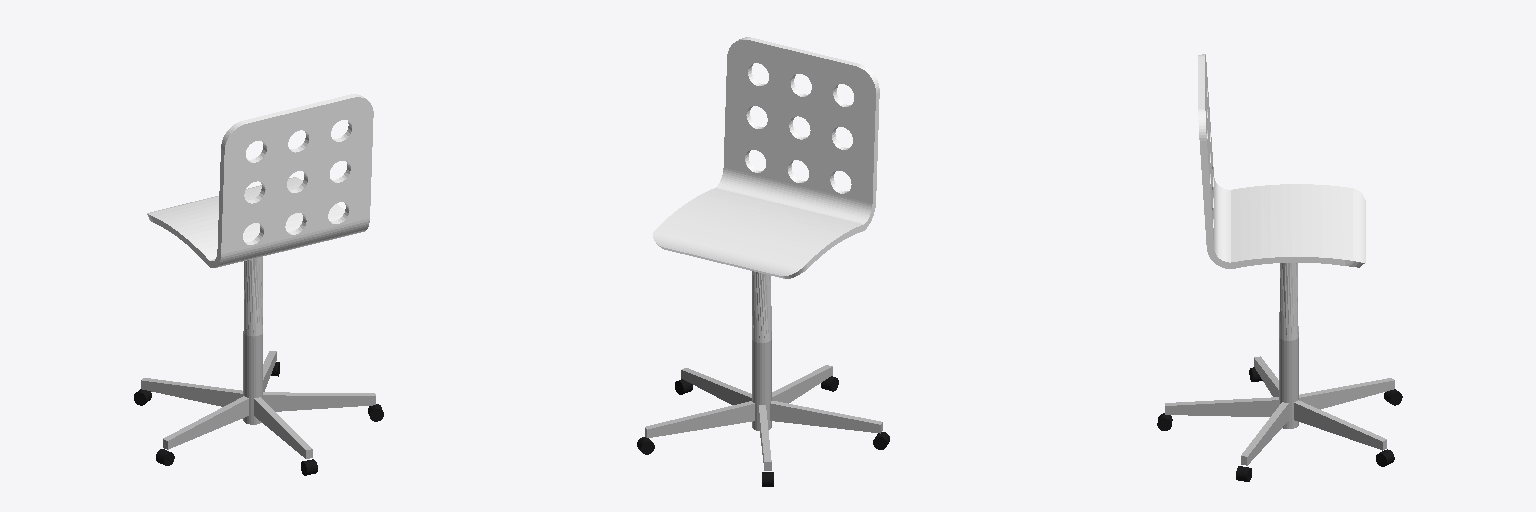
The picture shows the model from 3 angles: view 1: azimuth 30°, elevation 25°; view 2: azimuth 150°, elevation 25°; view 3: azimuth 270°, elevation 25°; orthographic projection.
Visible parts, largest first — view 1: Mesh1 Group2 Group1 Model, Mesh12 Group3 ske3F1 Group1 Model, Mesh5 Group5 Group3 ske3F1 Group1 Model, Mesh3 Group4 Group3 ske3F1 Group1 Model, Mesh7 Group6 Group3 ske3F1 Group1 Model, Mesh9 Group7 Group3 ske3F1 Group1 Model; view 2: Mesh1 Group2 Group1 Model, Mesh12 Group3 ske3F1 Group1 Model, Mesh7 Group6 Group3 ske3F1 Group1 Model, Mesh11 Group8 Group3 ske3F1 Group1 Model, Mesh5 Group5 Group3 ske3F1 Group1 Model, Mesh9 Group7 Group3 ske3F1 Group1 Model, Mesh3 Group4 Group3 ske3F1 Group1 Model; view 3: Mesh1 Group2 Group1 Model, Mesh12 Group3 ske3F1 Group1 Model, Mesh9 Group7 Group3 ske3F1 Group1 Model, Mesh11 Group8 Group3 ske3F1 Group1 Model, Mesh3 Group4 Group3 ske3F1 Group1 Model, Mesh5 Group5 Group3 ske3F1 Group1 Model.
Boxes of the visible parts, x1=… form: Mesh1 Group2 Group1 Model: x1=147, y1=94, x2=373, y2=267; Mesh12 Group3 ske3F1 Group1 Model: x1=243, y1=257, x2=262, y2=424; Mesh5 Group5 Group3 ske3F1 Group1 Model: x1=263, y1=392, x2=375, y2=411; Mesh3 Group4 Group3 ske3F1 Group1 Model: x1=141, y1=378, x2=242, y2=406; Mesh7 Group6 Group3 ske3F1 Group1 Model: x1=163, y1=396, x2=248, y2=449; Mesh9 Group7 Group3 ske3F1 Group1 Model: x1=254, y1=397, x2=312, y2=458; Mesh1 Group2 Group1 Model: x1=653, y1=37, x2=879, y2=278; Mesh12 Group3 ske3F1 Group1 Model: x1=752, y1=271, x2=771, y2=430; Mesh7 Group6 Group3 ske3F1 Group1 Model: x1=770, y1=401, x2=882, y2=433; Mesh11 Group8 Group3 ske3F1 Group1 Model: x1=645, y1=401, x2=754, y2=437; Mesh5 Group5 Group3 ske3F1 Group1 Model: x1=681, y1=368, x2=751, y2=404; Mesh9 Group7 Group3 ske3F1 Group1 Model: x1=772, y1=365, x2=832, y2=403; Mesh3 Group4 Group3 ske3F1 Group1 Model: x1=759, y1=405, x2=771, y2=470; Mesh1 Group2 Group1 Model: x1=1198, y1=54, x2=1365, y2=268; Mesh12 Group3 ske3F1 Group1 Model: x1=1279, y1=263, x2=1298, y2=428; Mesh9 Group7 Group3 ske3F1 Group1 Model: x1=1165, y1=397, x2=1279, y2=416; Mesh11 Group8 Group3 ske3F1 Group1 Model: x1=1294, y1=400, x2=1386, y2=450; Mesh3 Group4 Group3 ske3F1 Group1 Model: x1=1299, y1=378, x2=1394, y2=409; Mesh5 Group5 Group3 ske3F1 Group1 Model: x1=1241, y1=402, x2=1288, y2=465.
Bounding box in the file's own units: 0.5504 × 0.8385 × 0.5329.